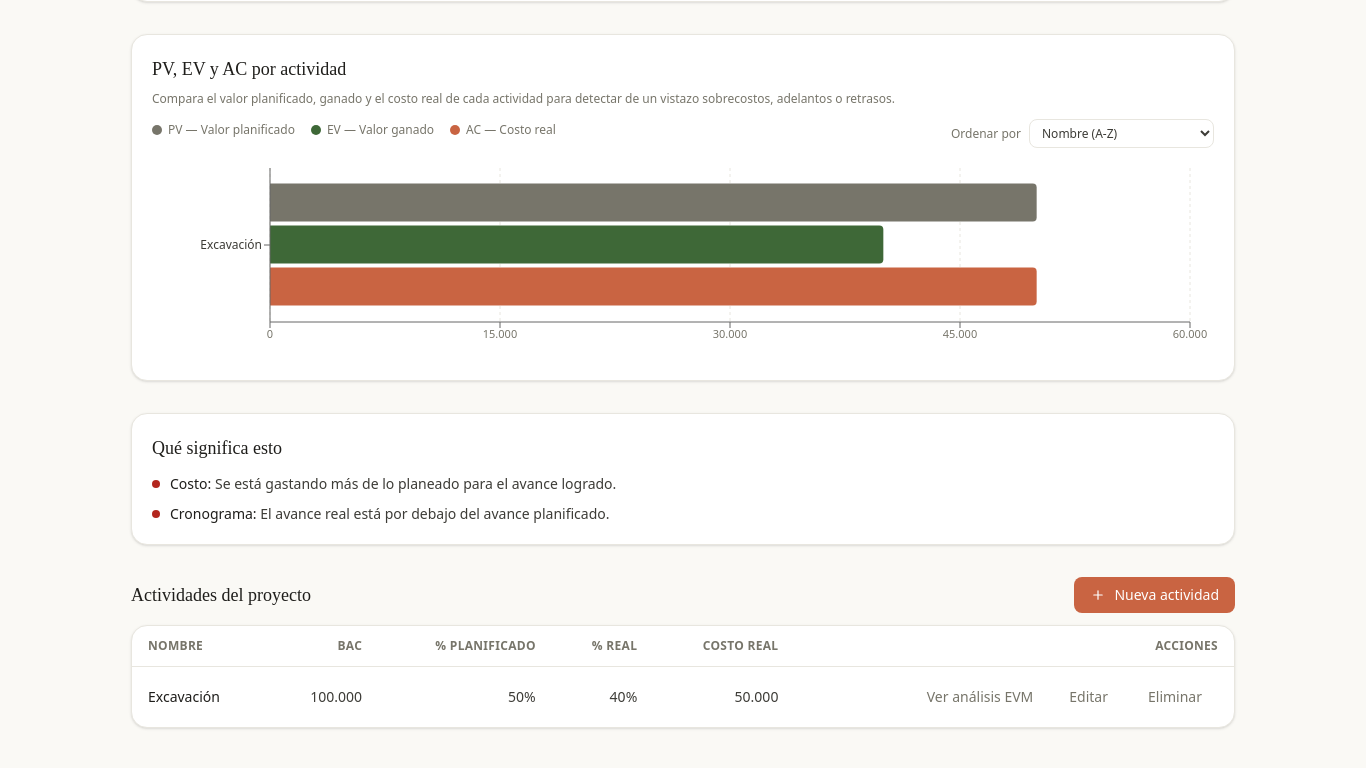
Test: DashboardProyecto › automatic refresh after a mutation › deletes an activity inline after confirming, and shows the empty state again once none remain
(page scrolled)
Click the button "Eliminar": (1175, 697) [1132,679,1218,715]
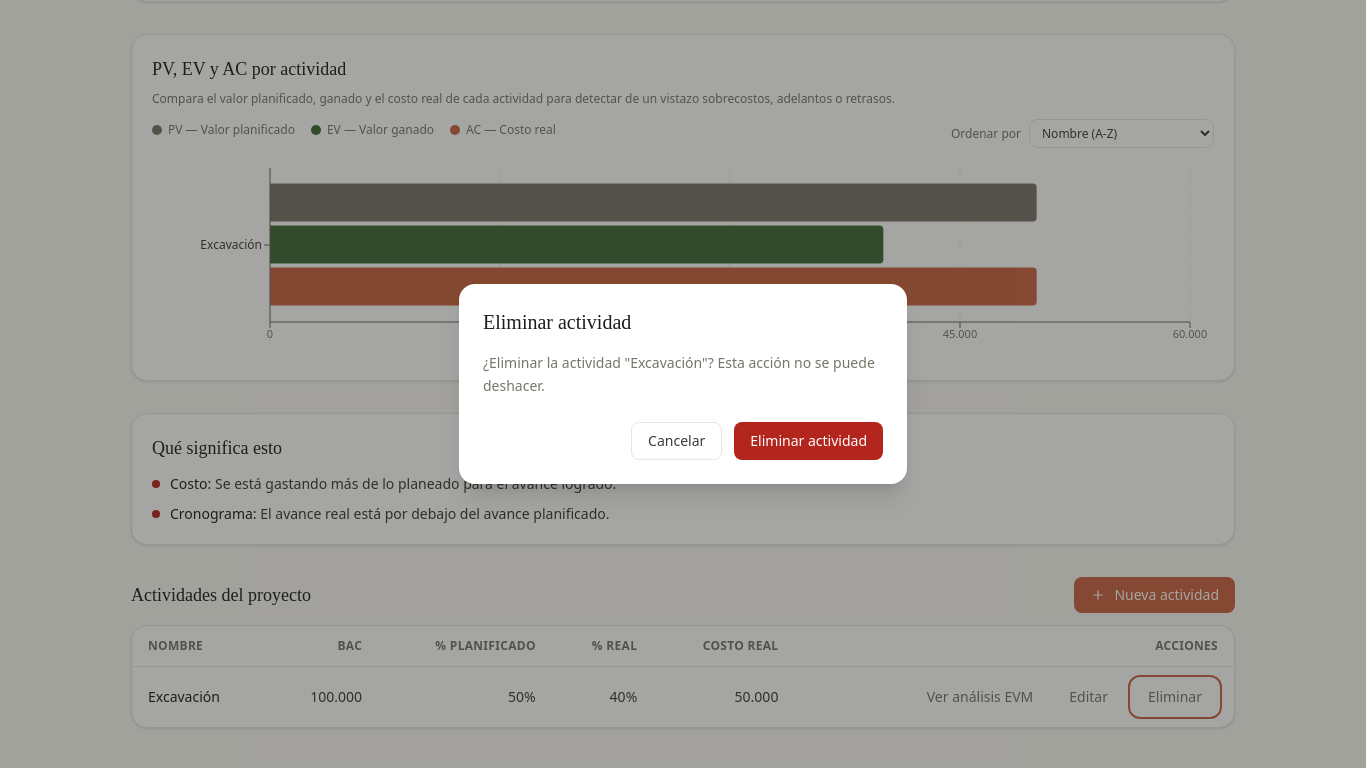
Click the button "Eliminar actividad": (809, 441) [734,422,883,460]
(page scrolled)
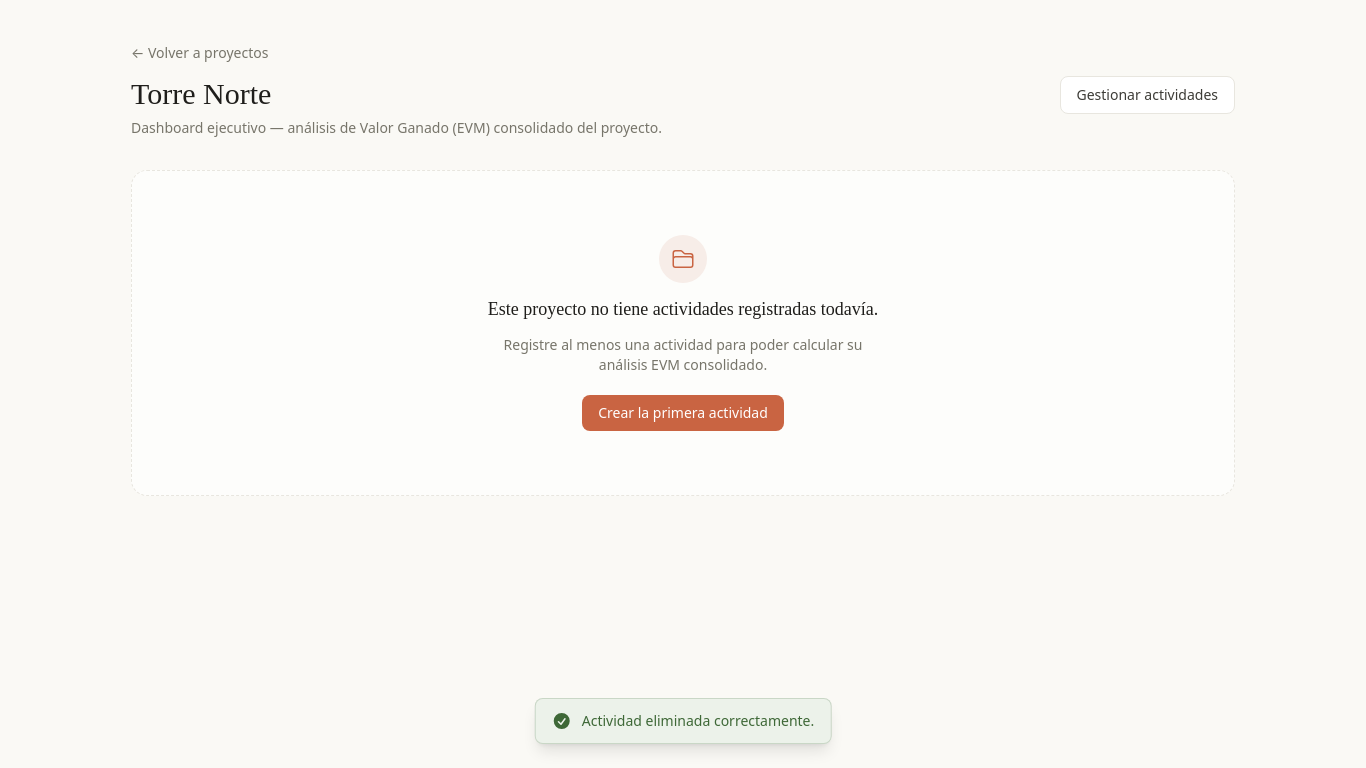
Result: the text "Actividad eliminada correctamente." is shown at [535,698,831,744]
Result: the text "Este proyecto no tiene actividades registradas todavía." is shown at [488,295,878,323]
